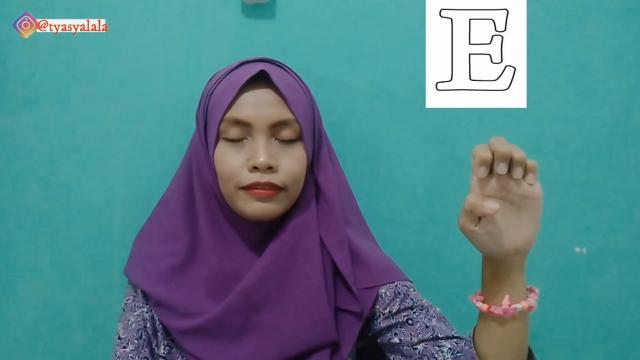E: (456, 134, 546, 262)
